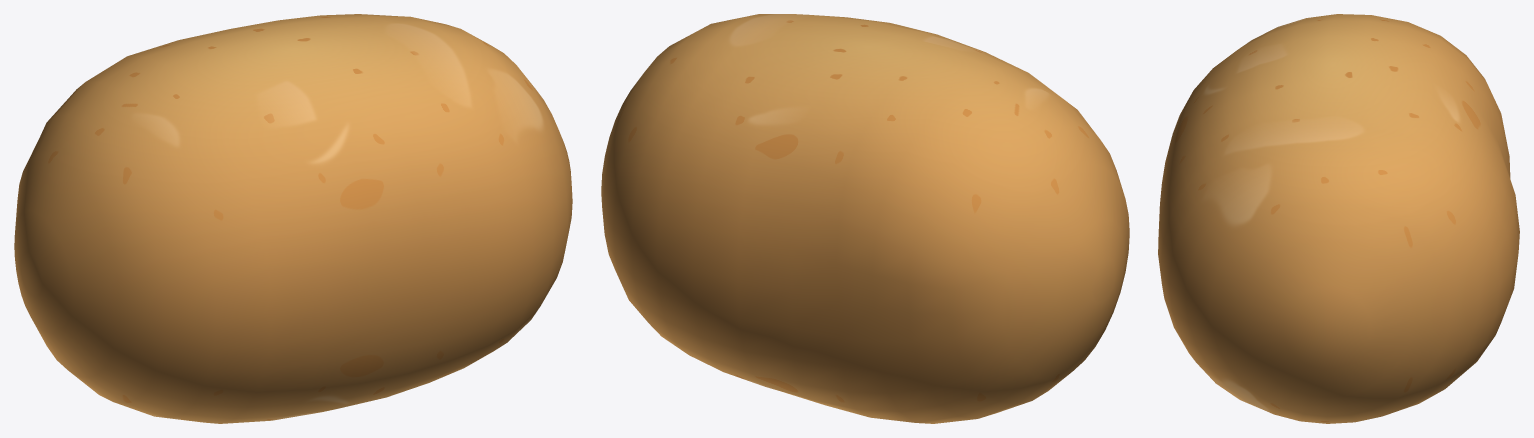
The model's file is Potato.fbx.
3 views of the same model, side by side, from view 1: azimuth 30°, elevation 25°; view 2: azimuth 150°, elevation 25°; view 3: azimuth 270°, elevation 25° (orthographic). The views are drawn at different scales.
Parts seen in each view (by area): view 1: Potato; view 2: Potato; view 3: Potato.
Boxes of the visible parts, bbox=[...] form: Potato: bbox=[14, 14, 572, 423]; Potato: bbox=[601, 14, 1129, 423]; Potato: bbox=[1158, 14, 1519, 423].
Size of the model in its own units: 14.43 by 9.35 by 9.88.
